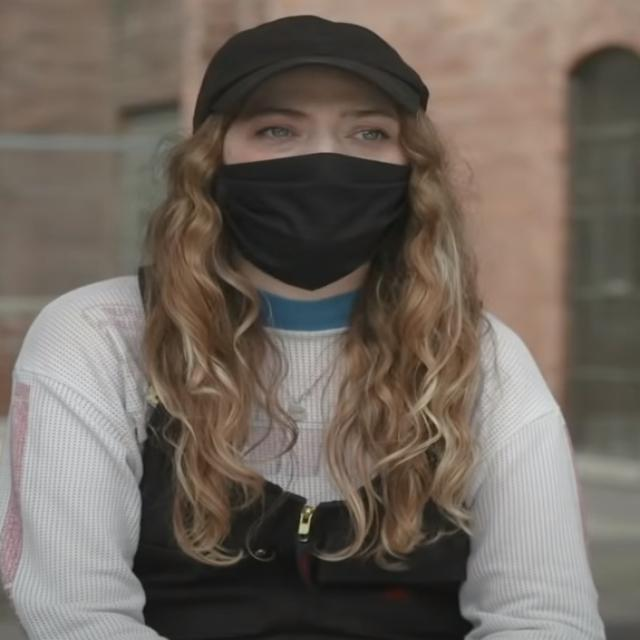hat: (198, 14, 430, 128)
